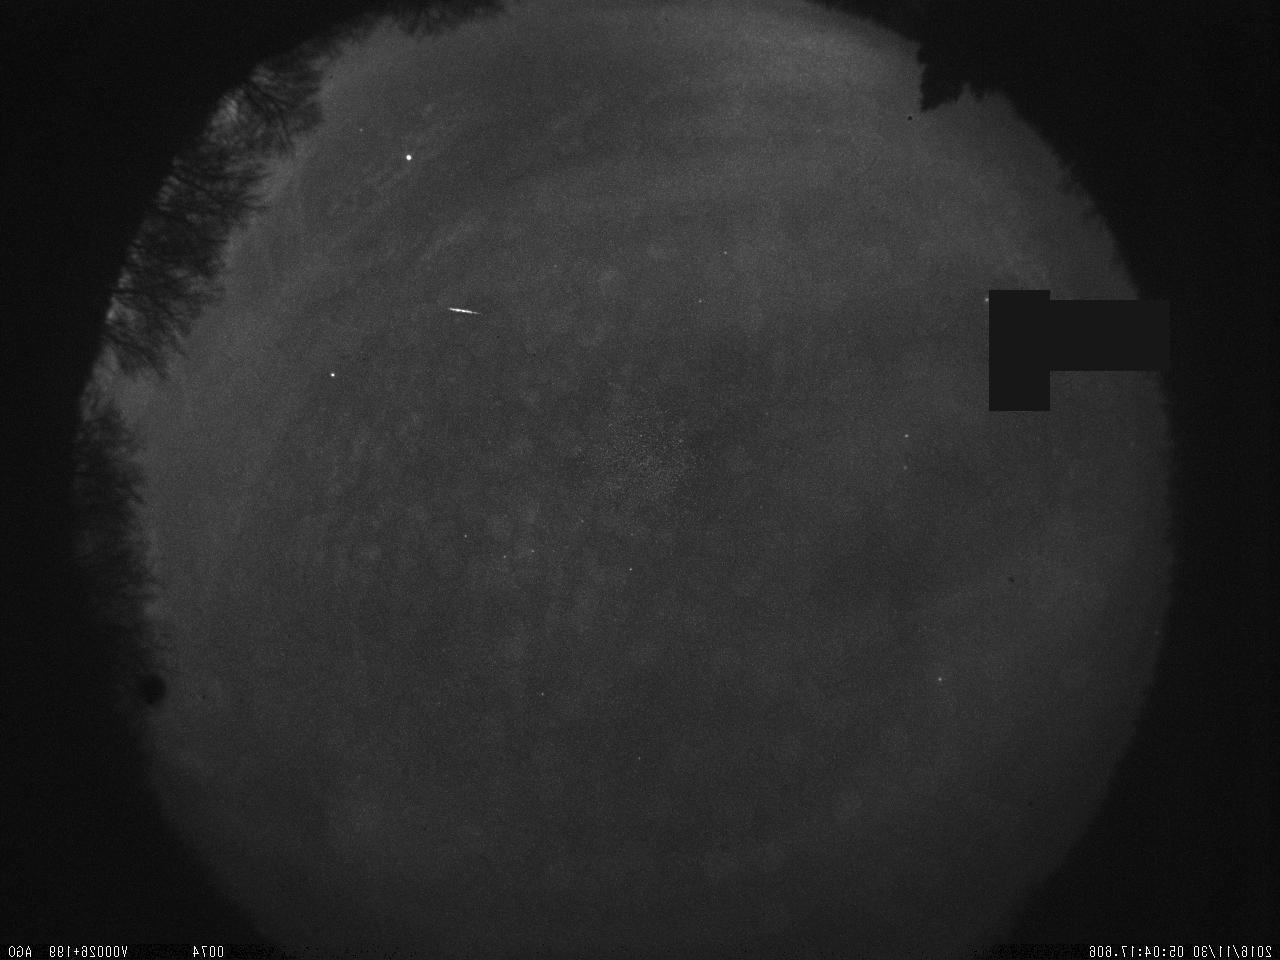meteor: (432, 298, 488, 326)
